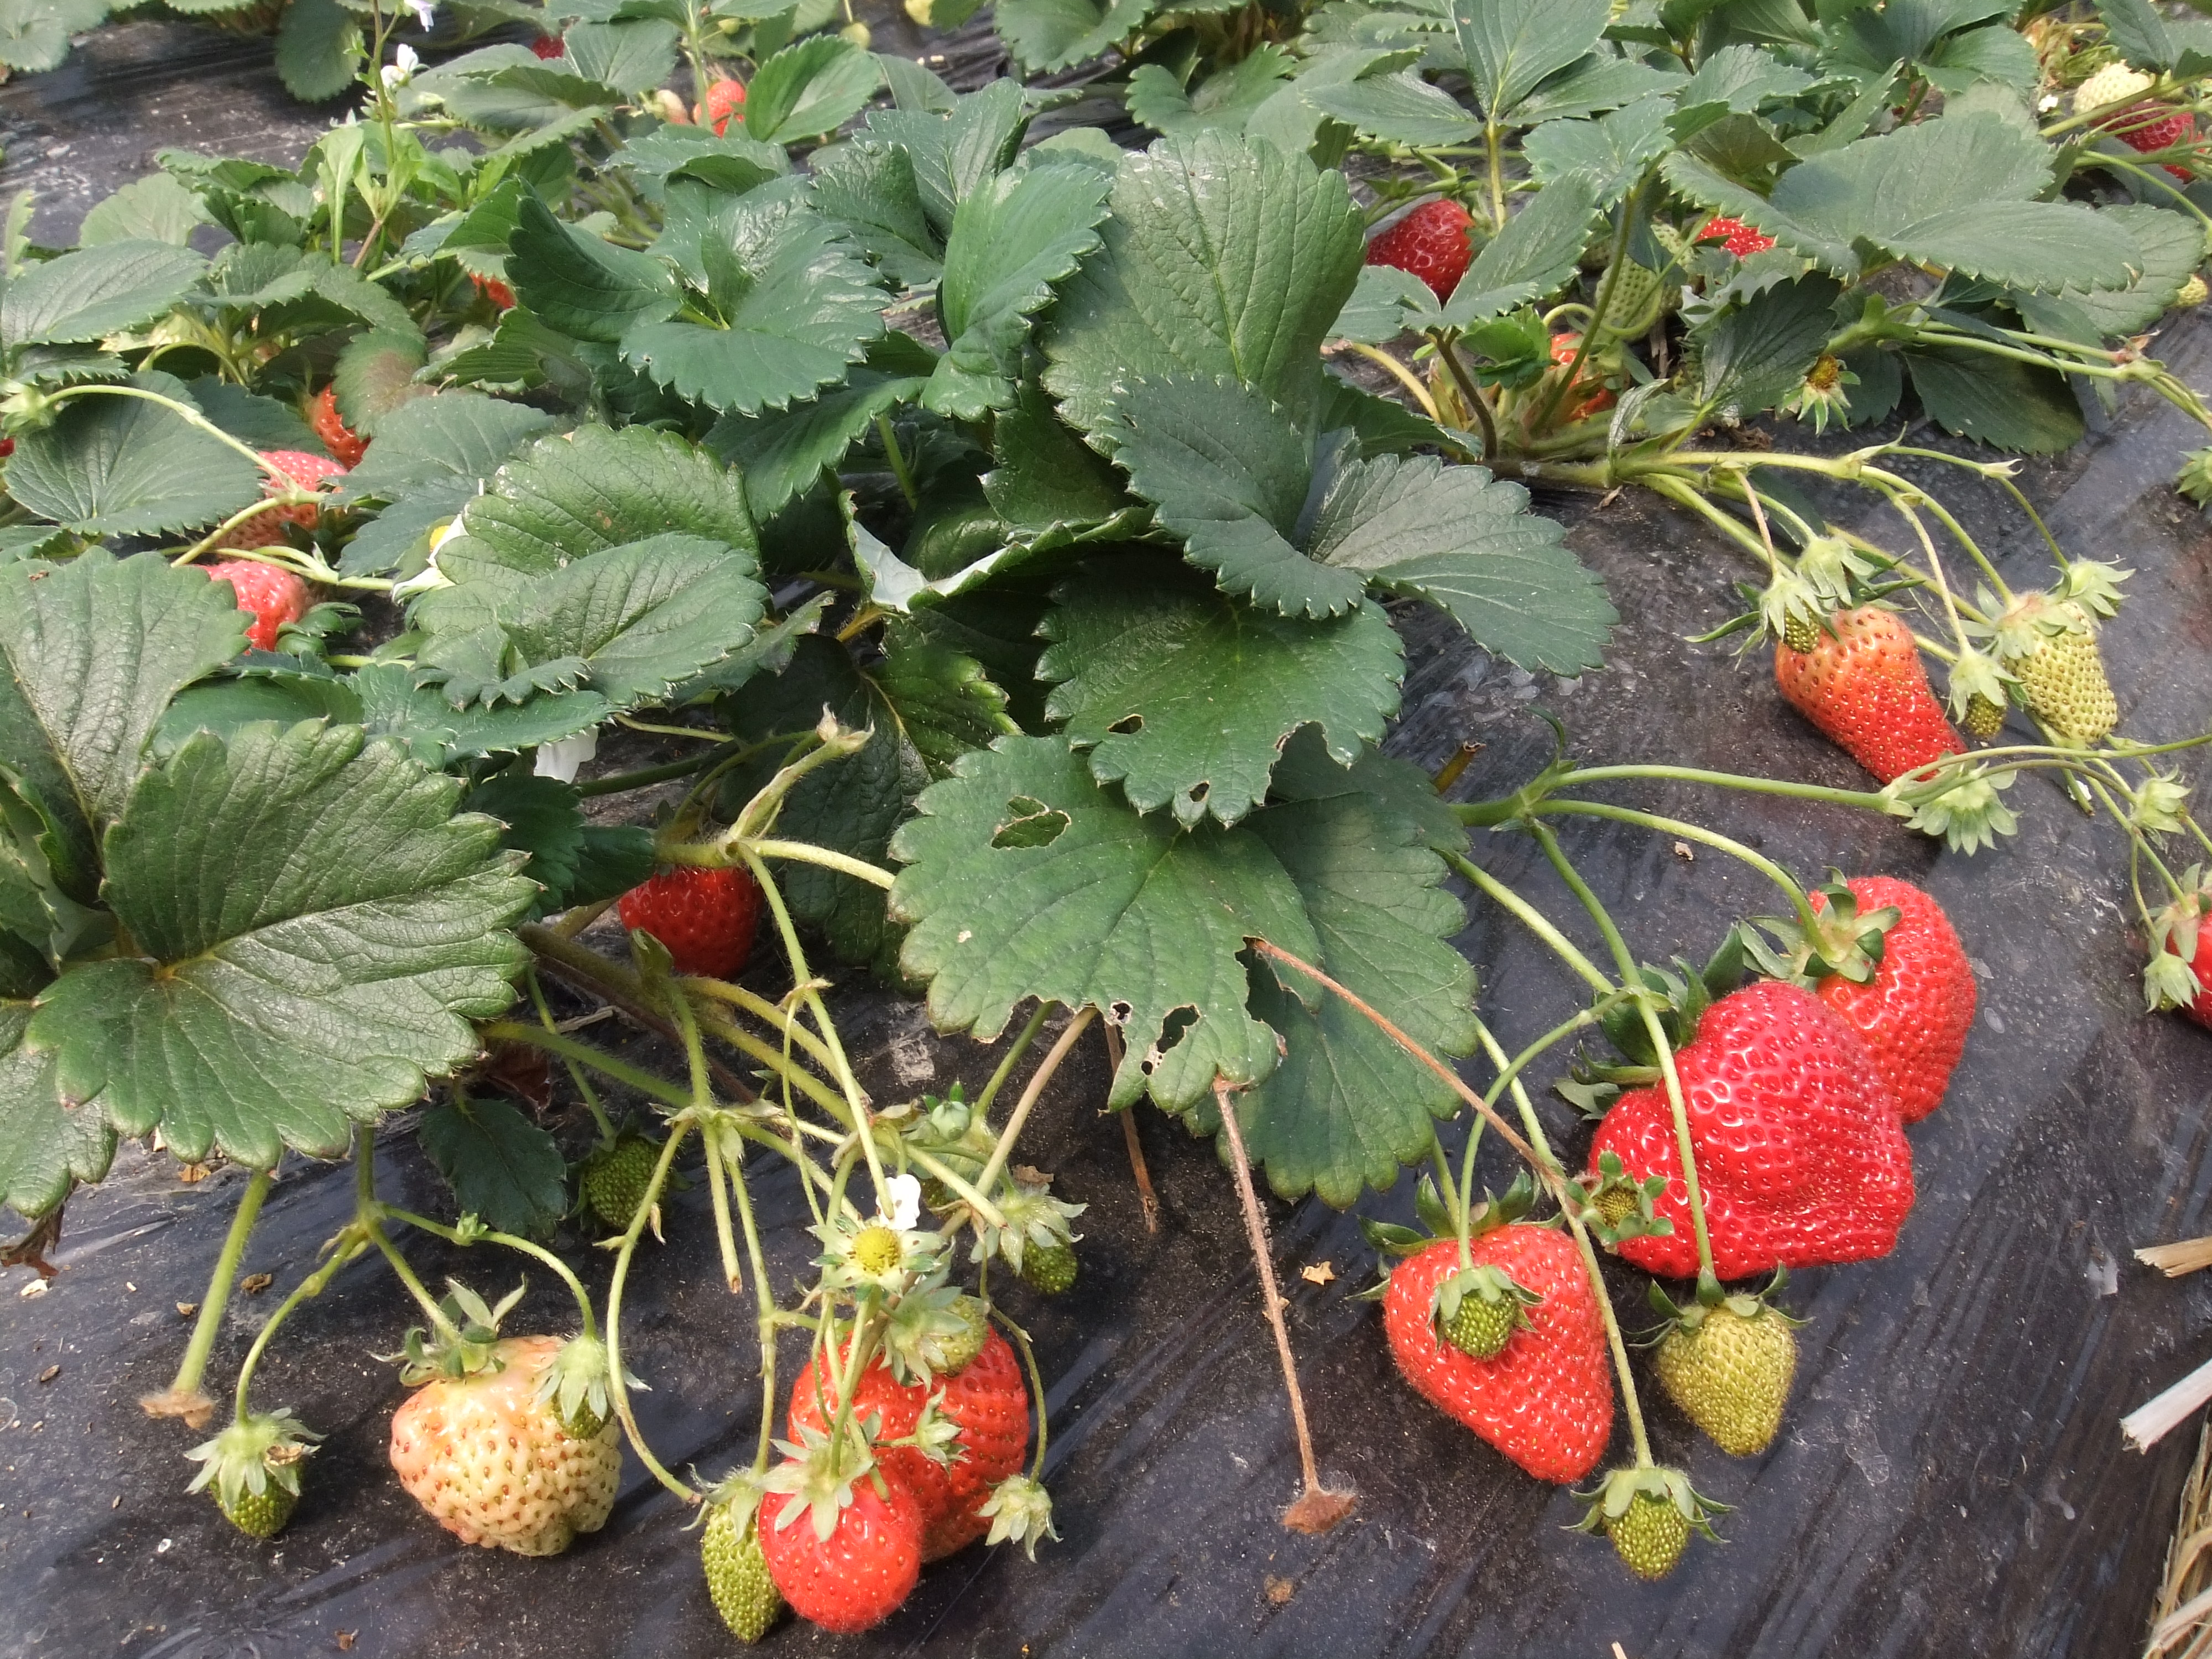StrawberryCircular: (1562, 943, 1944, 1302), (740, 1448, 946, 1642)
StrawberryCone: (1364, 1201, 1667, 1509)
StrawberryIrremovable: (368, 1316, 636, 1568), (1773, 596, 1965, 796), (1648, 1286, 1803, 1462), (1987, 584, 2137, 755), (1571, 1443, 1728, 1582), (174, 1399, 326, 1542), (686, 1443, 794, 1640), (204, 437, 364, 554), (968, 1178, 1106, 1305), (183, 563, 331, 667), (876, 1281, 1001, 1389), (578, 1122, 681, 1248), (1930, 641, 2033, 760), (284, 366, 402, 469), (536, 1333, 627, 1466), (1733, 565, 1844, 666), (1432, 1263, 1538, 1368)
StrawberryOther: (770, 1277, 1066, 1588), (590, 821, 794, 985), (1343, 178, 1491, 308)
StrawberryRemovable: (1573, 953, 1940, 1288), (773, 1286, 1062, 1582), (1371, 1208, 1656, 1502), (1761, 843, 1991, 1134), (752, 1457, 937, 1631), (596, 830, 792, 979), (1348, 181, 1491, 308)
StrawberryWedge: (1749, 838, 1998, 1140)
